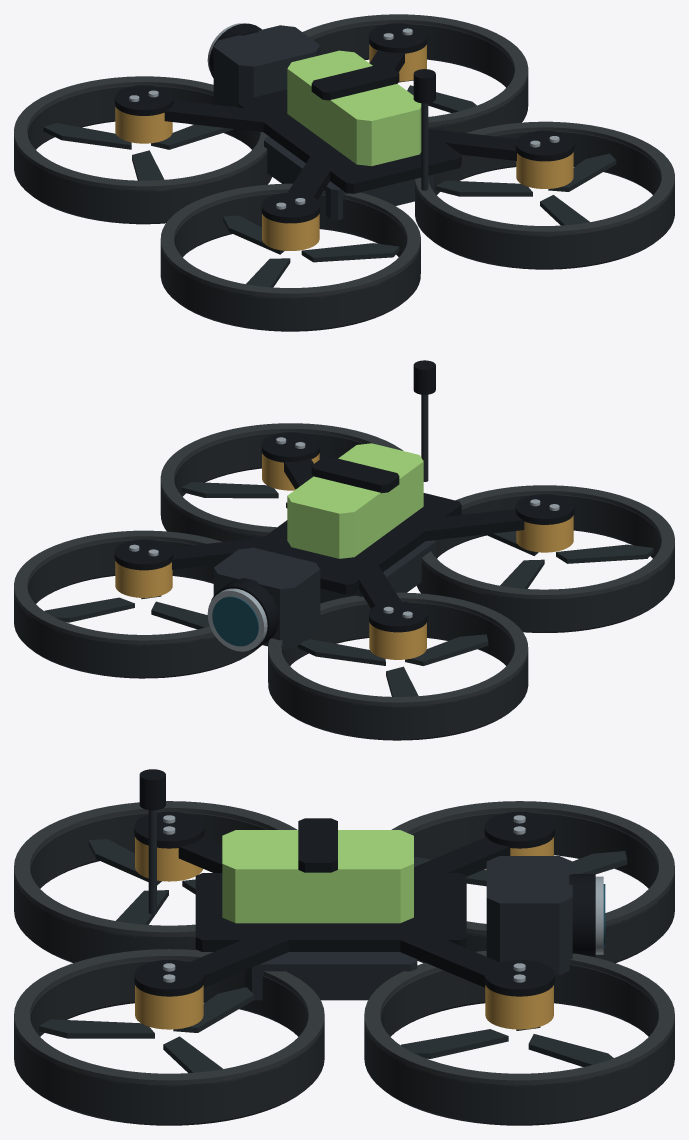
Rendered from whoop.glb.
3 views of the same model, one above another, from view 1: azimuth 30°, elevation 25°; view 2: azimuth 150°, elevation 25°; view 3: azimuth 270°, elevation 25° (orthographic). The views are drawn at different scales.
Parts seen in each view (by area): view 1: guard-3, guard-4, guard-1, battery, centre-frame, rim-3, guard-2, front-camera, rim-4, rim-1, rim-2, propeller-4 (+20 smaller); view 2: guard-1, guard-3, guard-2, battery, front-camera, rim-3, rim-1, guard-4, rim-2, centre-frame, rim-4, propeller-1 (+22 smaller); view 3: guard-2, guard-4, battery, guard-3, guard-1, front-camera, centre-frame, rim-4, rim-2, rim-3, electronics, rim-1 (+20 smaller).
Boxes of the visible parts, x1,y1,x2,y2 form: guard-3: [160, 193, 420, 331]; guard-4: [415, 131, 674, 269]; guard-1: [14, 85, 271, 224]; battery: [287, 50, 421, 166]; centre-frame: [238, 89, 461, 193]; rim-3: [160, 183, 420, 299]; guard-2: [312, 23, 528, 132]; front-camera: [213, 25, 320, 107]; rim-4: [415, 121, 674, 237]; rim-1: [14, 76, 268, 191]; rim-2: [302, 14, 528, 127]; propeller-4: [435, 153, 616, 225]; guard-1: [268, 602, 528, 740]; guard-3: [417, 494, 674, 632]; guard-2: [14, 539, 260, 678]; battery: [287, 443, 423, 558]; front-camera: [213, 547, 320, 648]; rim-3: [421, 485, 674, 600]; rim-1: [268, 592, 528, 707]; guard-4: [160, 432, 365, 541]; rim-2: [14, 530, 222, 645]; centre-frame: [249, 493, 461, 594]; rim-4: [160, 423, 403, 537]; propeller-1: [297, 634, 488, 696]; guard-2: [364, 964, 674, 1125]; guard-4: [14, 960, 324, 1125]; battery: [222, 830, 413, 923]; guard-3: [14, 812, 268, 963]; guard-1: [411, 812, 674, 963]; front-camera: [486, 856, 572, 975]; centre-frame: [195, 873, 466, 951]; rim-4: [14, 949, 324, 1086]; rim-2: [364, 950, 674, 1086]; rim-3: [14, 801, 297, 938]; electronics: [245, 952, 417, 1000]; rim-1: [391, 801, 674, 937].
Bounding box in the file's own units: 0.1 × 0.0355 × 0.1.
